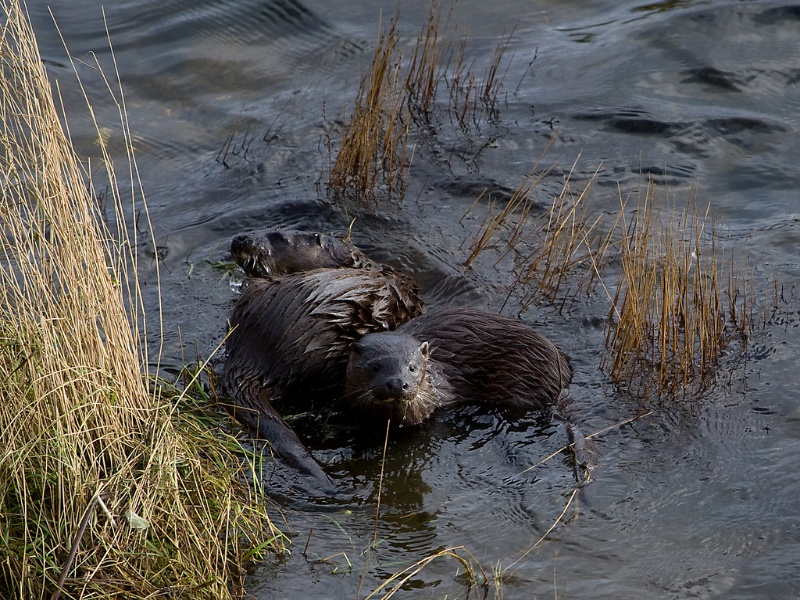minkish: (195, 227, 412, 483), (352, 333, 569, 426)
